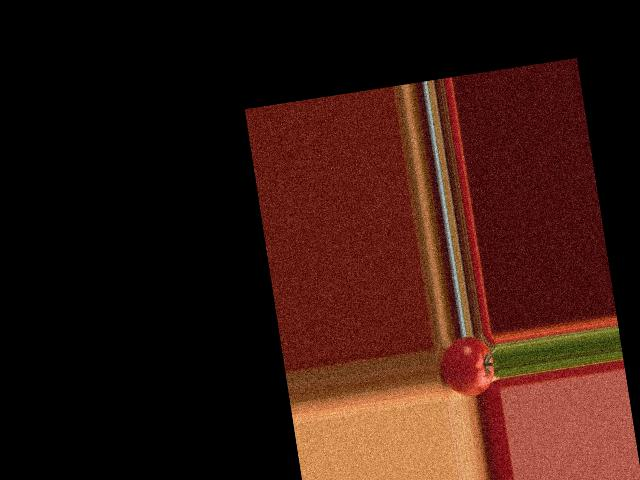tomato: (438, 333, 497, 400)
